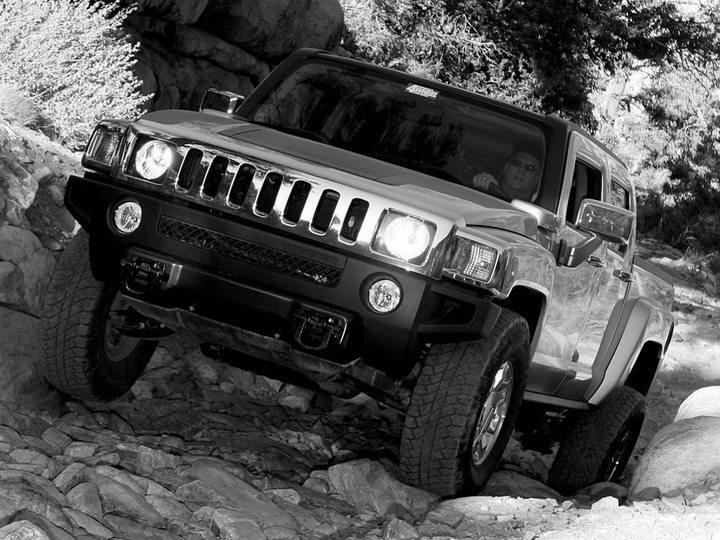car: (35, 50, 673, 495)
